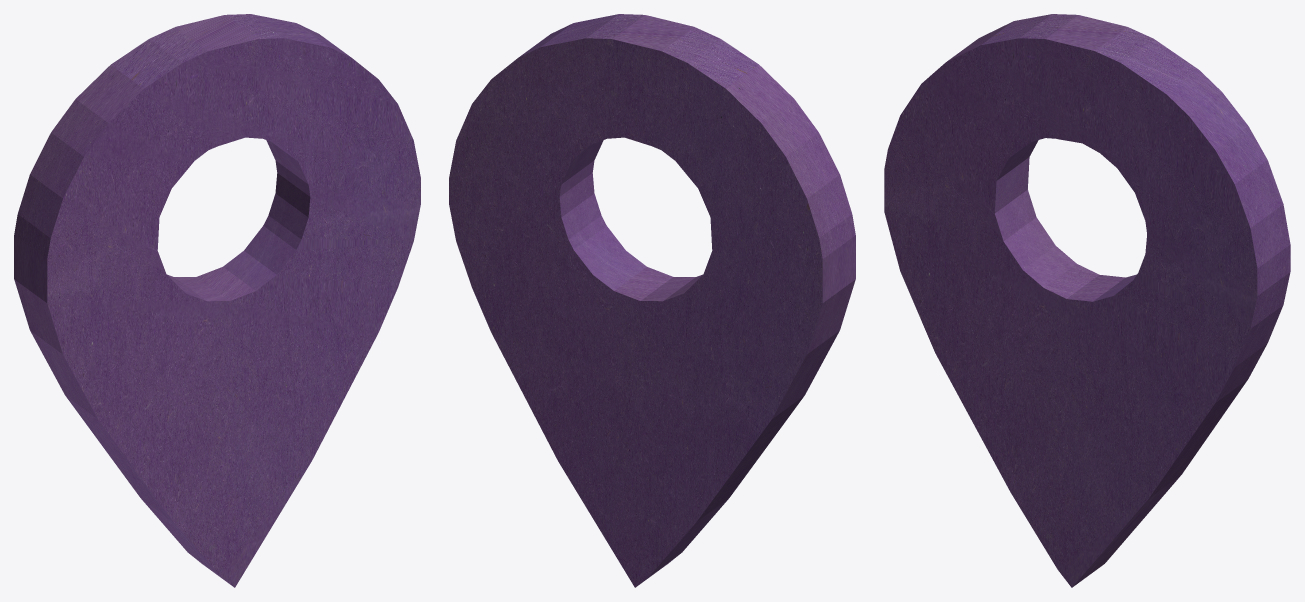
The model's file is asset.glb.
3 renders of one model, left to right at view 1: azimuth 30°, elevation 25°; view 2: azimuth 150°, elevation 25°; view 3: azimuth 330°, elevation 25°, orthographic.
Size of the model in its own units: 10 by 13.9 by 1.54.
1 material, 1 textured.
